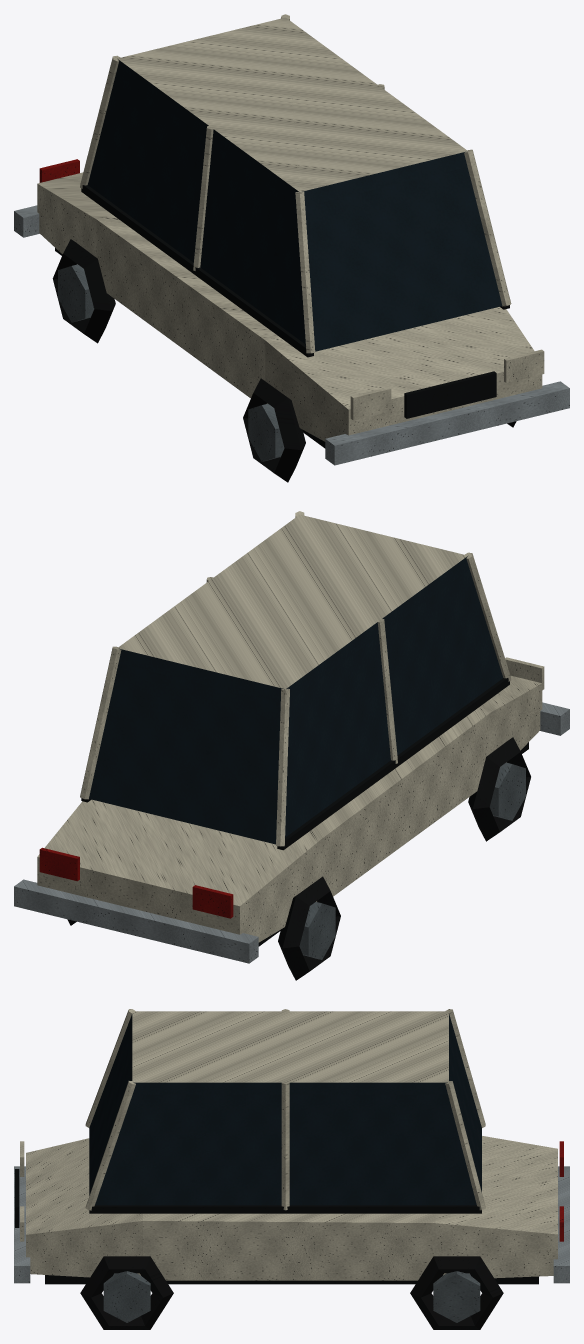
The model's file is PROP-418469EB72DB_lod2.glb.
3 views of the same model, one above another, from view 1: azimuth 30°, elevation 25°; view 2: azimuth 150°, elevation 25°; view 3: azimuth 270°, elevation 25° (orthographic). The views are drawn at different scales.
Visible parts, largest first — view 1: sloped_cabin_glazing.008, shaped_body_panels.010, roof_panel.008, bumper.010, window_pillars.008, tire.010, rim.010, window_belt.008, radiator_grille.010, lamp_lenses.020, lamp_lenses.021; view 2: sloped_cabin_glazing.008, shaped_body_panels.010, roof_panel.008, bumper.010, window_pillars.008, tire.010, rim.010, window_belt.008, lamp_lenses.021, lamp_lenses.020; view 3: sloped_cabin_glazing.008, shaped_body_panels.010, roof_panel.008, tire.010, window_pillars.008, rim.010, window_belt.008, bumper.010, chassis.010.
Part boxes in pixels (x1,y1,x2,y2): sloped_cabin_glazing.008: [87, 59, 502, 351]; shaped_body_panels.010: [37, 172, 542, 441]; roof_panel.008: [117, 17, 467, 191]; bumper.010: [14, 205, 569, 465]; window_pillars.008: [80, 14, 511, 353]; tire.010: [52, 239, 516, 482]; rim.010: [58, 264, 284, 461]; window_belt.008: [81, 185, 509, 357]; radiator_grille.010: [404, 371, 496, 418]; lamp_lenses.020: [350, 349, 544, 420]; lamp_lenses.021: [39, 159, 79, 182]; sloped_cabin_glazing.008: [89, 556, 503, 844]; shaped_body_panels.010: [37, 675, 542, 942]; roof_panel.008: [117, 514, 467, 689]; bumper.010: [14, 702, 569, 963]; window_pillars.008: [80, 511, 511, 846]; tire.010: [67, 737, 530, 980]; rim.010: [299, 762, 525, 959]; window_belt.008: [81, 678, 509, 850]; lamp_lenses.021: [39, 847, 233, 918]; lamp_lenses.020: [505, 657, 544, 690]; sloped_cabin_glazing.008: [89, 1014, 481, 1205]; shaped_body_panels.010: [26, 1136, 557, 1280]; roof_panel.008: [132, 1011, 448, 1082]; tire.010: [80, 1256, 503, 1329]; window_pillars.008: [85, 1009, 485, 1210]; rim.010: [103, 1271, 480, 1322]; window_belt.008: [89, 1205, 481, 1213]; bumper.010: [14, 1166, 569, 1283]; chassis.010: [45, 1275, 538, 1284].
Bounding box in the file's own units: 1.98 × 2.06 × 4.39.
Materials: 7 (7 with a texture image).
